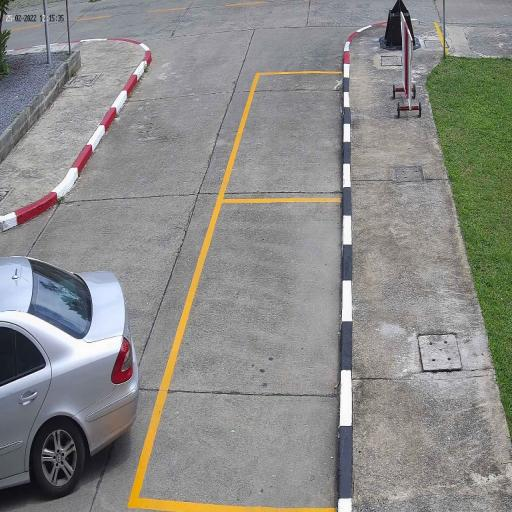car: (0, 254, 142, 496)
